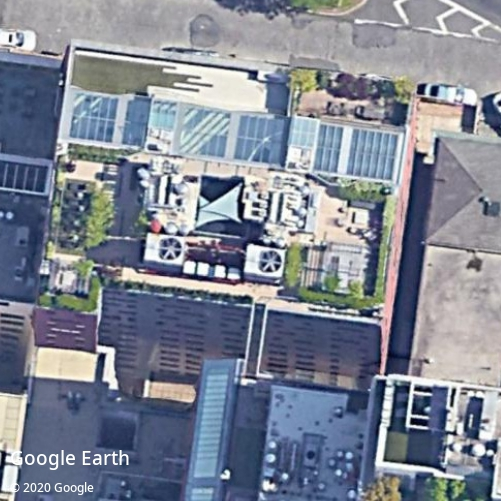Vent: (259, 250, 282, 273), (159, 238, 182, 260)
